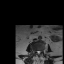CCS_normal: (38, 49, 39, 56)
LFS_stenosis: (40, 49, 42, 53)
LLS_normal: (39, 49, 40, 55)
RFS_stenosis: (35, 48, 36, 53)
RLS_normal: (36, 49, 38, 55)
